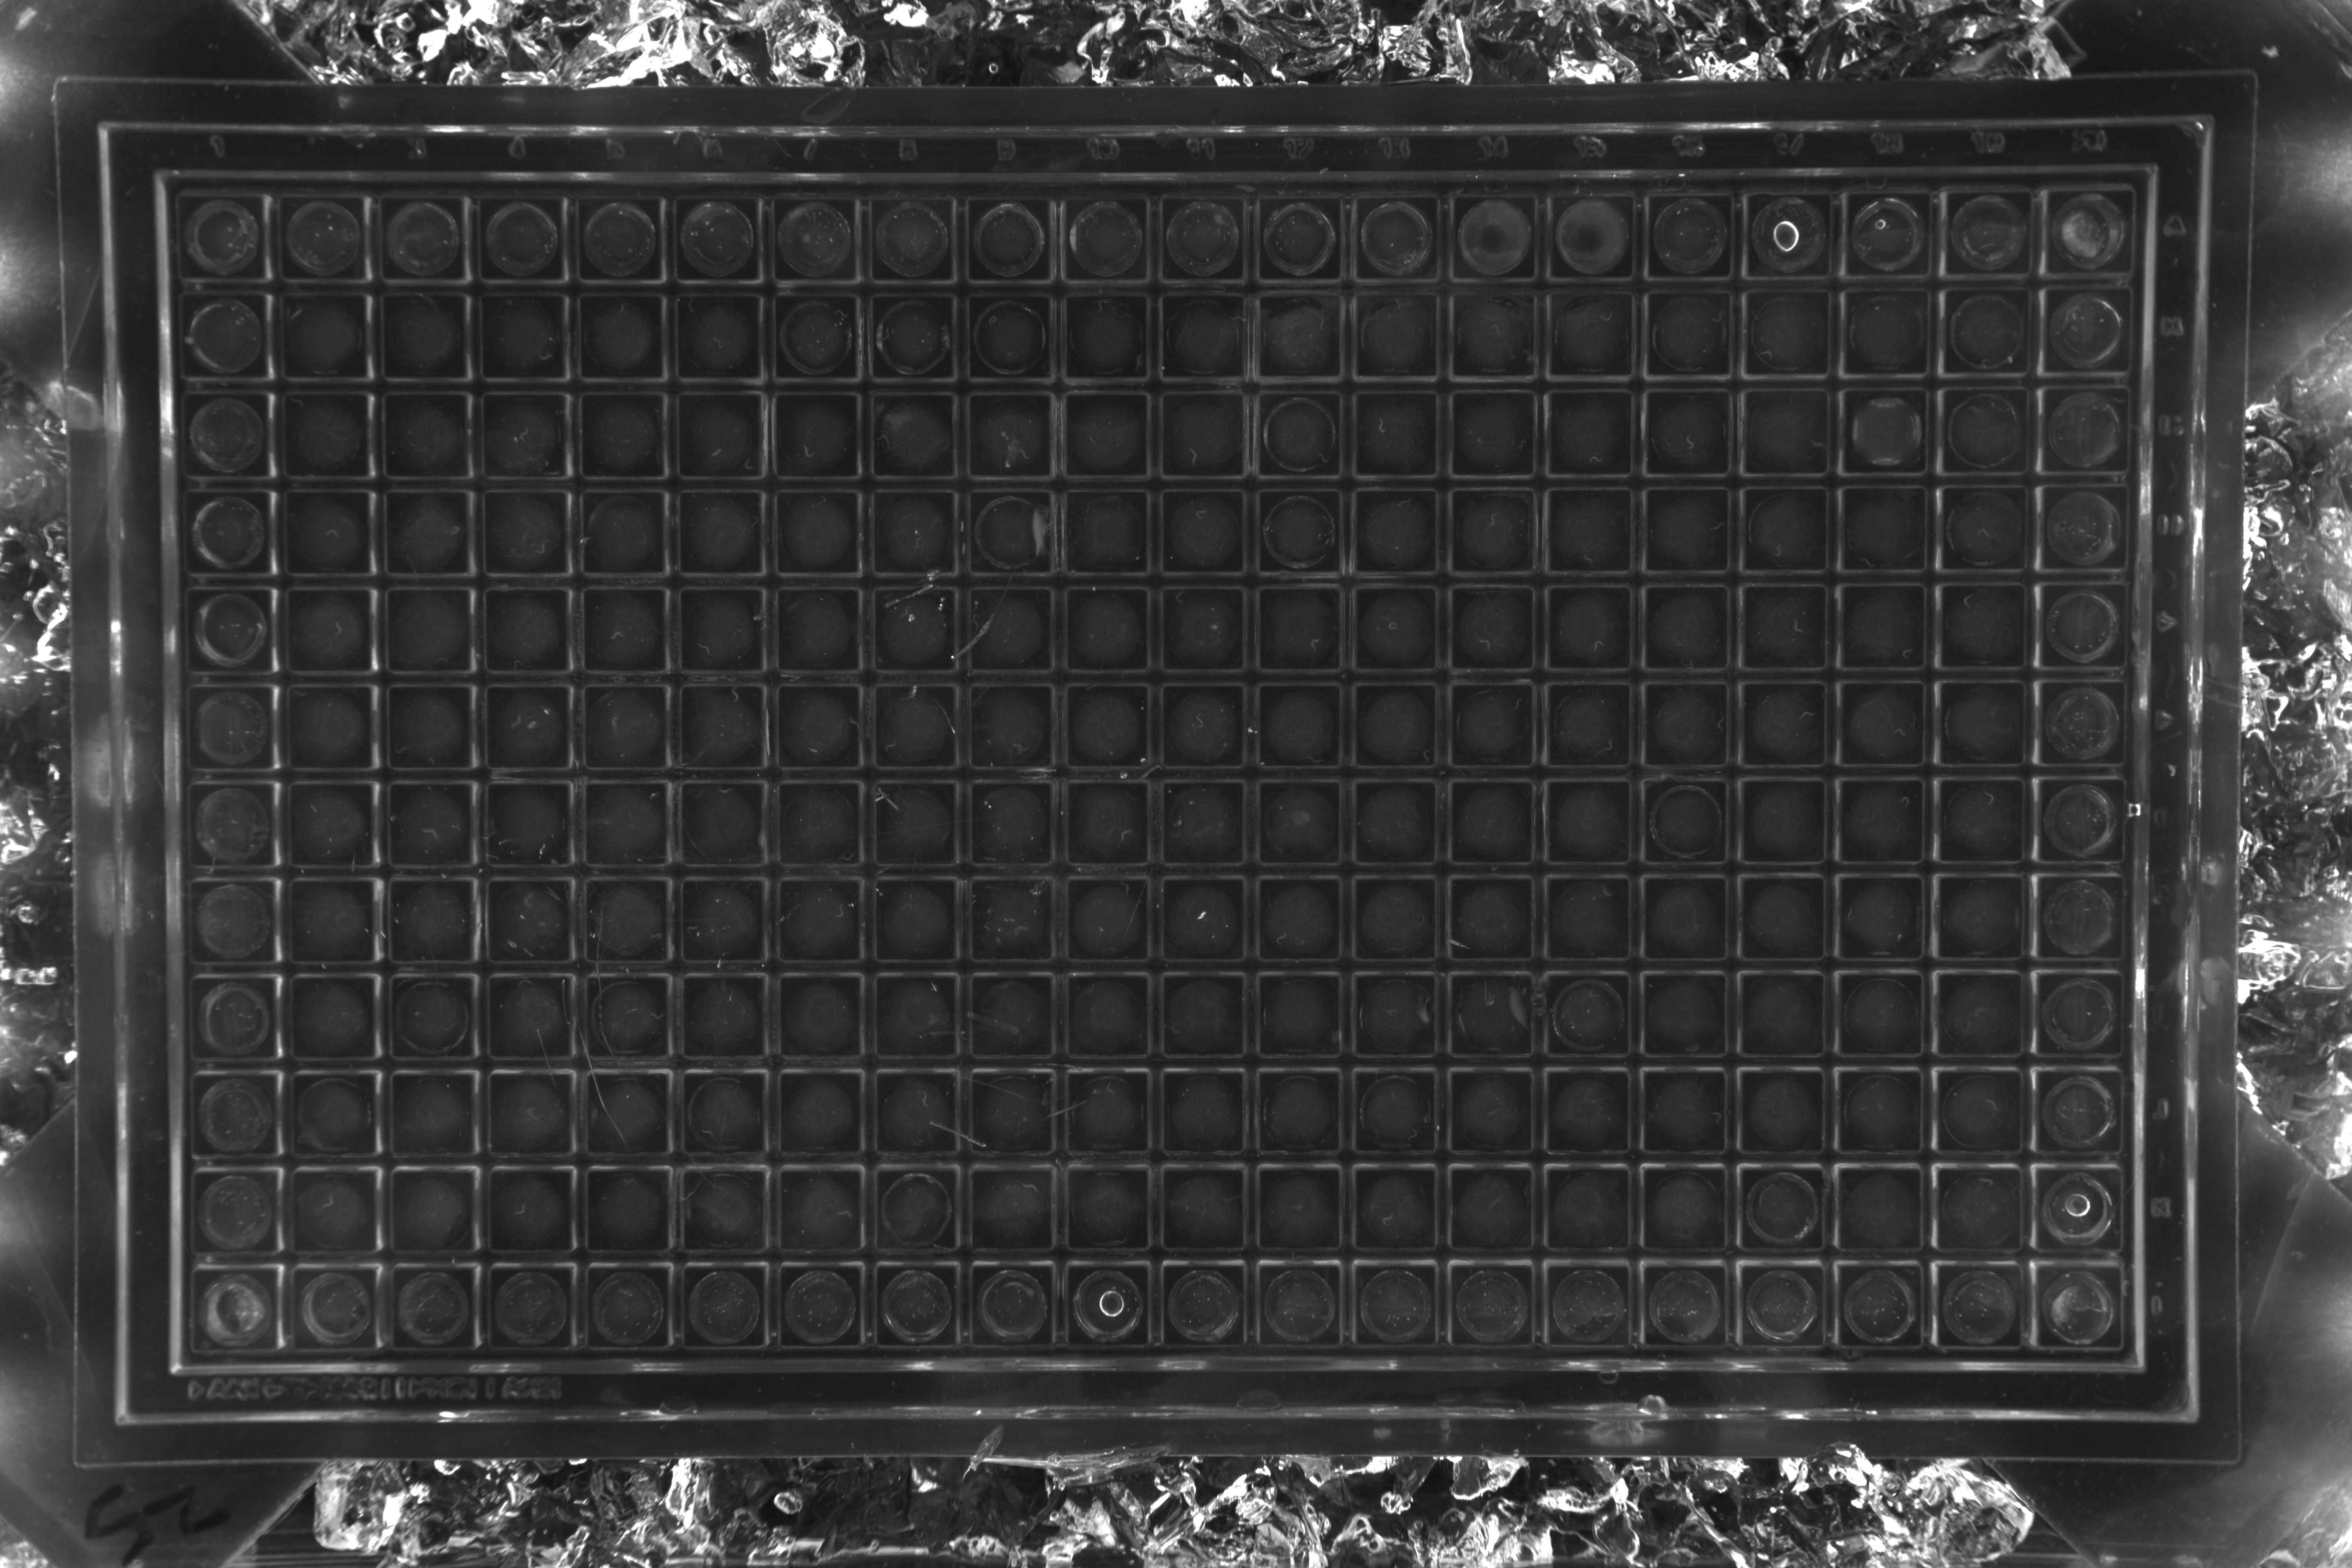WM_well: (395, 535, 485, 623), (691, 728, 780, 815), (789, 1115, 878, 1202), (199, 535, 287, 623), (595, 1214, 682, 1302), (693, 922, 780, 1010), (789, 632, 877, 719), (789, 728, 877, 815), (887, 1018, 975, 1106), (983, 1017, 1071, 1104), (1078, 241, 1165, 329), (1080, 1211, 1167, 1298), (1274, 630, 1361, 717), (1372, 336, 1459, 423), (1465, 1113, 1552, 1200), (1466, 630, 1554, 717), (1564, 628, 1652, 716), (1566, 530, 1654, 618), (1566, 432, 1654, 520), (1760, 920, 1848, 1008), (1760, 724, 1848, 812), (1764, 430, 1851, 518), (1857, 1213, 1944, 1300), (1858, 920, 1946, 1008)
